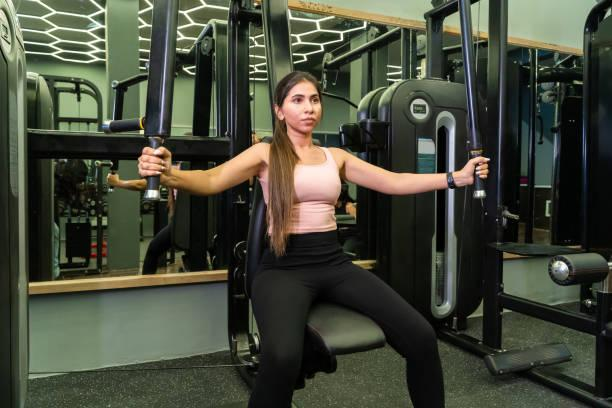no_helmet: (271, 113, 326, 147)
none: (248, 158, 346, 237)
